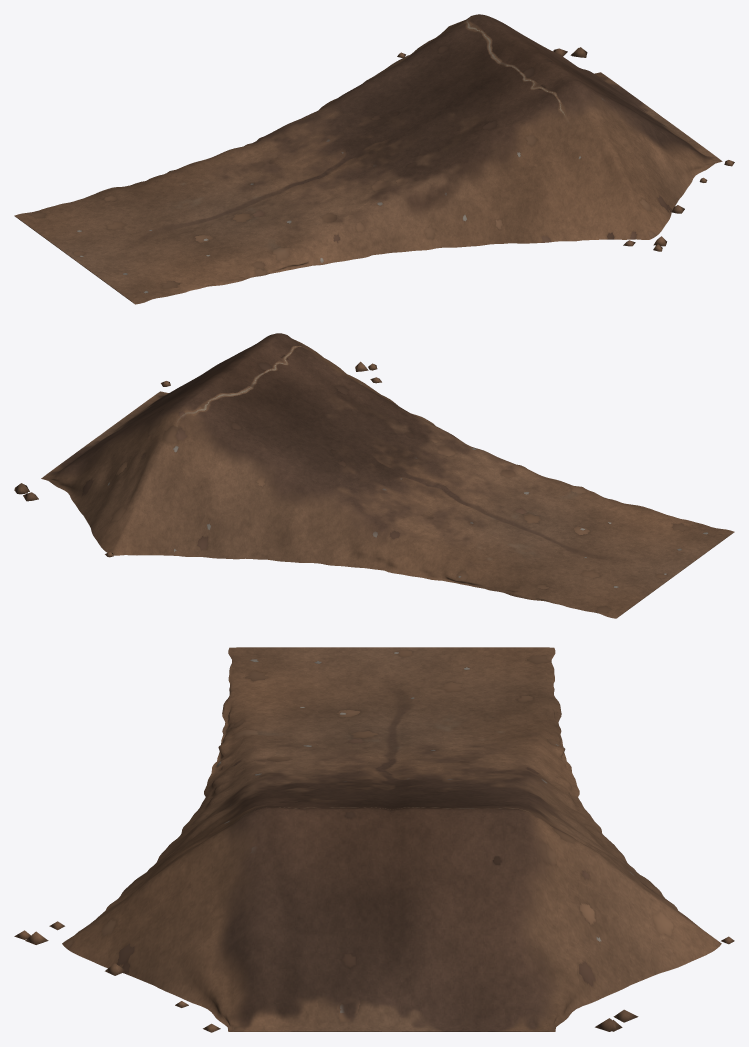
File: DR_Prop_ScrubRamp.fbx
The picture shows the model from 3 angles, top to bottom: view 1: azimuth 30°, elevation 25°; view 2: azimuth 150°, elevation 25°; view 3: azimuth 270°, elevation 25°; orthographic projection. The views are drawn at different scales.
Parts seen in each view (by area): view 1: DR_Prop_ScrubRamp; view 2: DR_Prop_ScrubRamp; view 3: DR_Prop_ScrubRamp.
Part boxes in pixels (bbox=[...]): DR_Prop_ScrubRamp: bbox=[14, 14, 734, 304]; DR_Prop_ScrubRamp: bbox=[14, 333, 734, 618]; DR_Prop_ScrubRamp: bbox=[14, 647, 734, 1032].
Bounding box in the file's own units: 2.6 × 0.4238 × 2.04.
1 material, 1 textured.
